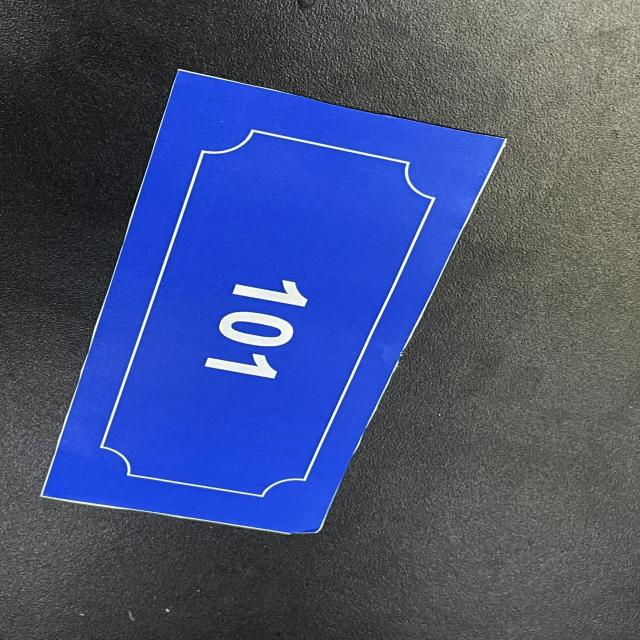Card: (19, 47, 525, 552)
